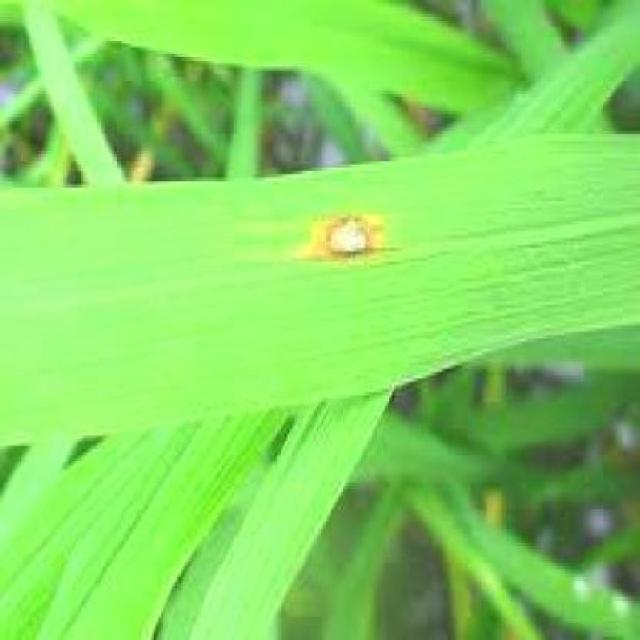Bacterial_Leaf_Blight: (298, 174, 399, 268)
